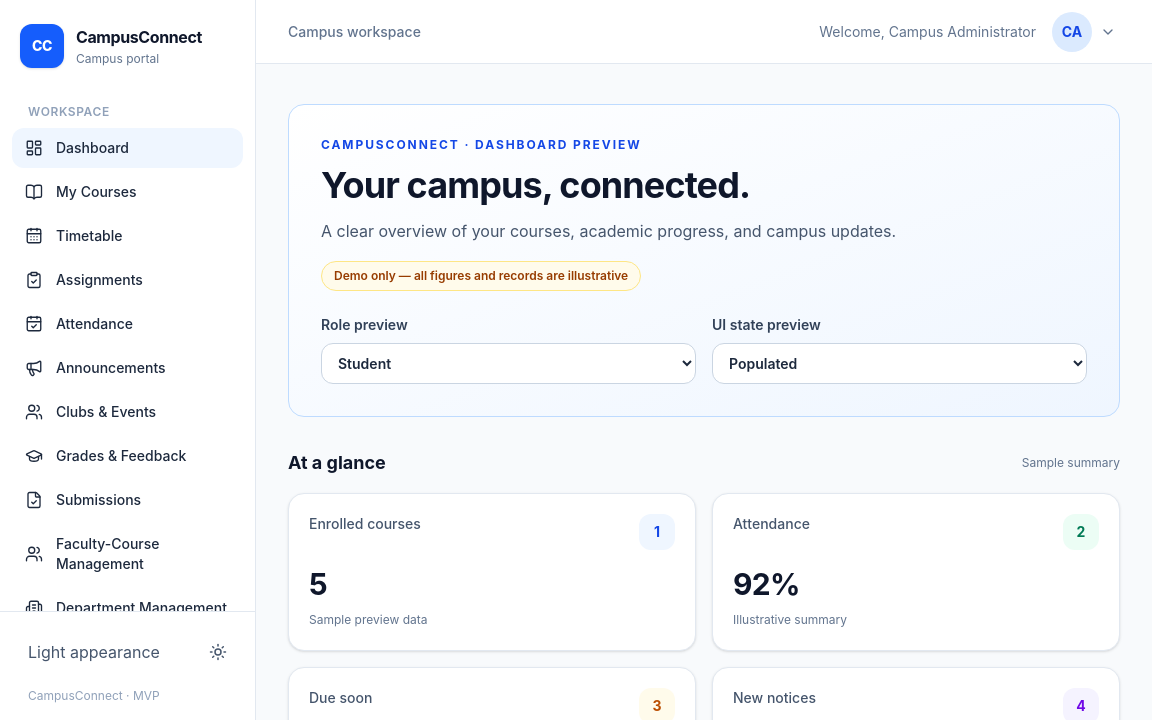
Test: CampusConnect application › shows the authenticated user profile
The width and height of the screenshot is (1152, 720).
Check: the text "Welcome, Campus Administrator" is shown, box [819,22,1036,42]
Click the button with aria-label "Open profile menu": x=1084, y=32 [1048,8,1120,56]
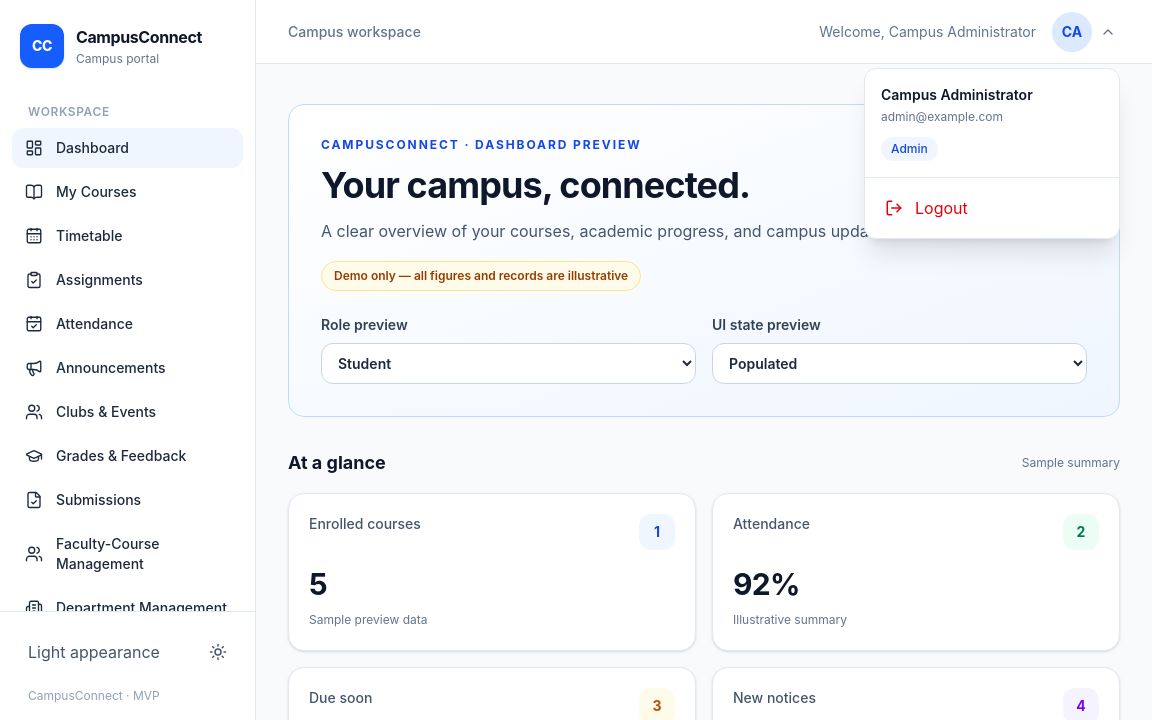
Check: the text "admin@example.com" is shown, box [881,108,1003,124]
Check: the text "admin" is shown, box [881,136,938,160]
Check: the menu item "Logout" is shown, box [873,186,1111,230]
